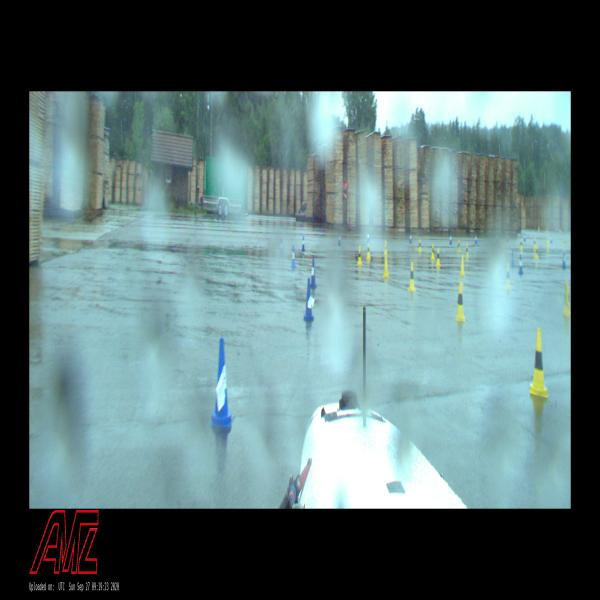blue_cone: (211, 338, 233, 428), (304, 278, 314, 322), (310, 258, 316, 288), (518, 254, 523, 276), (291, 246, 296, 267), (510, 250, 516, 267), (562, 253, 566, 269), (301, 236, 305, 251), (366, 231, 370, 242), (338, 233, 341, 245), (474, 233, 477, 244), (409, 233, 412, 243), (449, 234, 452, 244)
yellow_cone: (530, 329, 548, 398), (455, 282, 466, 322), (563, 281, 570, 317), (408, 263, 415, 291), (505, 263, 511, 291), (459, 254, 465, 276), (383, 255, 389, 277), (357, 246, 362, 265), (366, 243, 371, 259), (436, 248, 440, 266), (465, 243, 469, 259), (519, 238, 523, 252), (534, 246, 538, 259), (431, 244, 434, 259), (418, 239, 421, 252), (384, 241, 387, 254), (457, 239, 460, 251), (534, 238, 536, 248), (547, 240, 549, 248)
